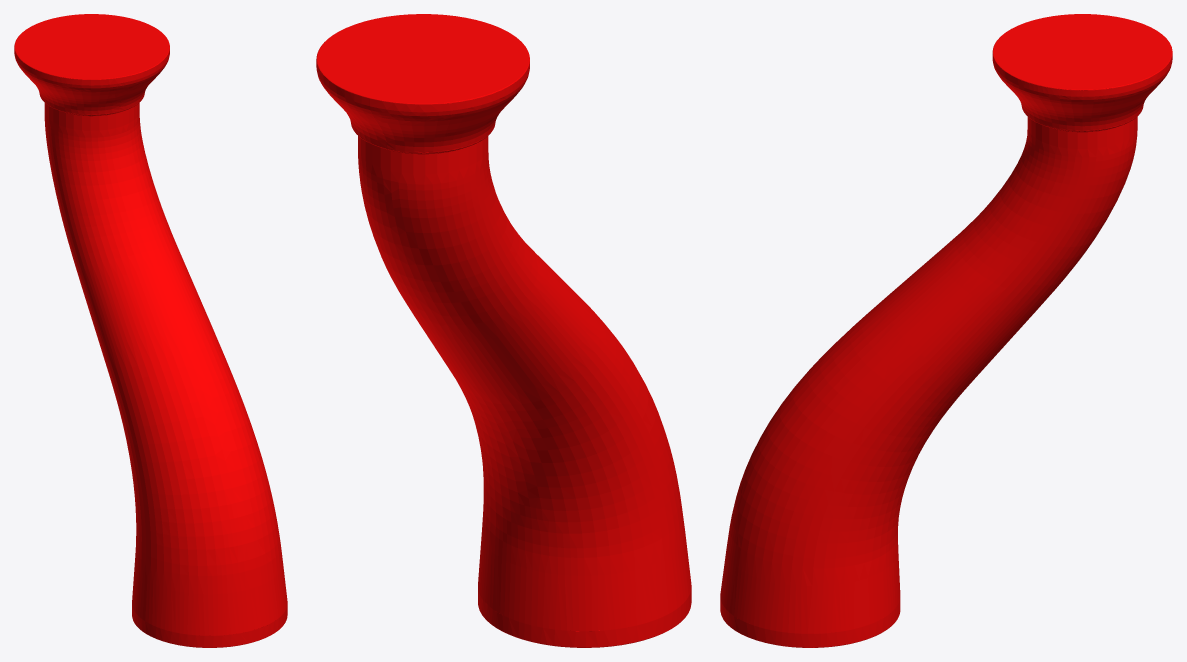
3 views of the same model, side by side, from view 1: azimuth 30°, elevation 25°; view 2: azimuth 150°, elevation 25°; view 3: azimuth 270°, elevation 25° (orthographic). The views are drawn at different scales.
Visible parts, largest first — view 1: H2515_4_0; view 2: H2515_4_0; view 3: H2515_4_0.
Boxes of the visible parts, x1,y1,x2,y2 form: H2515_4_0: (14,14,287,647); H2515_4_0: (316,14,691,647); H2515_4_0: (720,14,1172,647).
Size of the model in its own units: 131 by 329 by 448.
